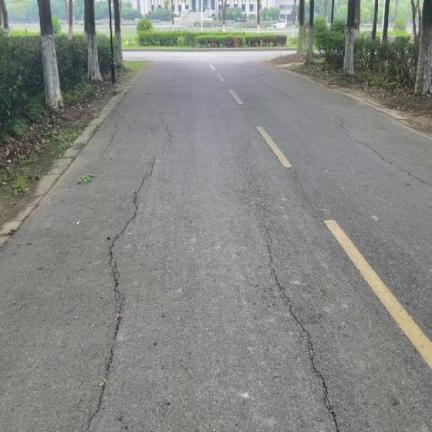Road: (0, 52, 431, 431)
